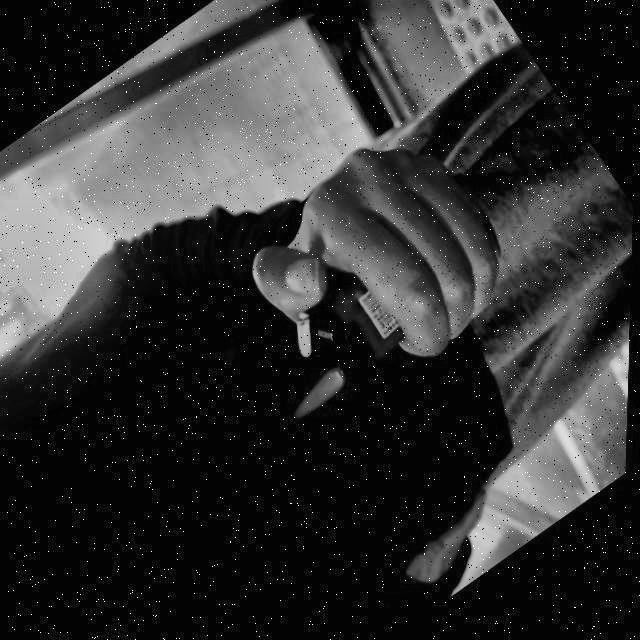Fire: (284, 370, 346, 425)
